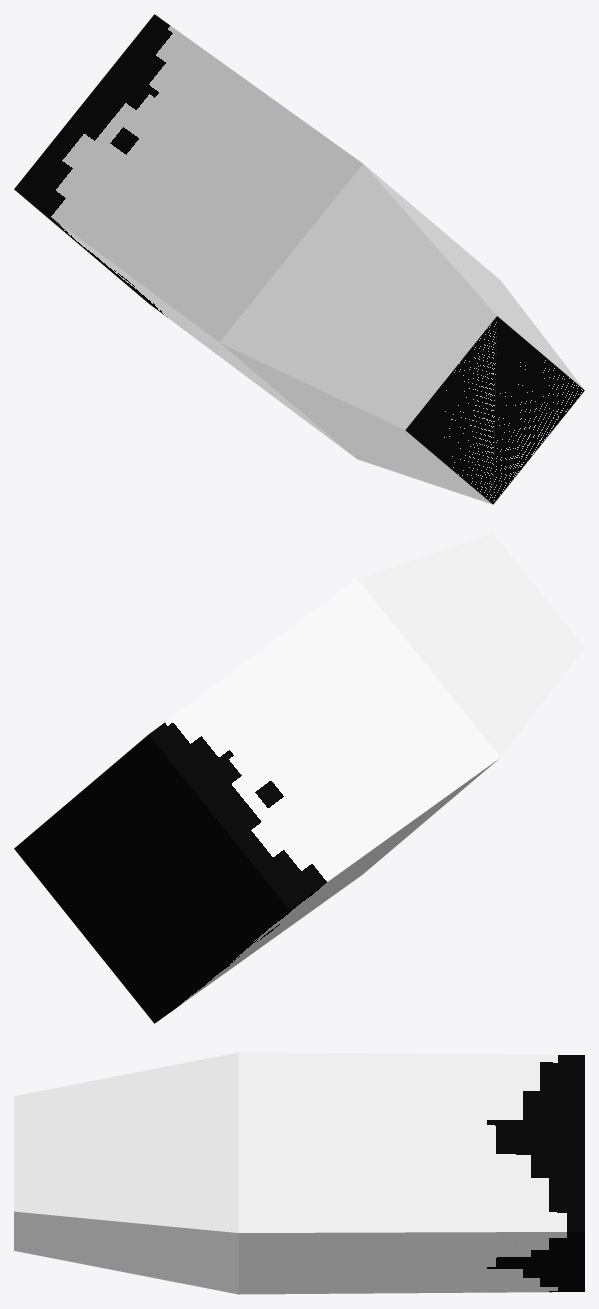
Rendered from Plasma.fbx.
3 renders of one model, top to bottom at view 1: azimuth 30°, elevation 25°; view 2: azimuth 150°, elevation 25°; view 3: azimuth 270°, elevation 25°, orthographic. The views are drawn at different scales.
Parts seen in each view (by area): view 1: Cube; view 2: Cube; view 3: Cube.
Part boxes in pixels (x1=…): Cube: x1=14, y1=14, x2=584, y2=504; Cube: x1=14, y1=533, x2=584, y2=1023; Cube: x1=14, y1=1052, x2=584, y2=1294.
Size of the model in its own units: 442 by 442 by 937.
